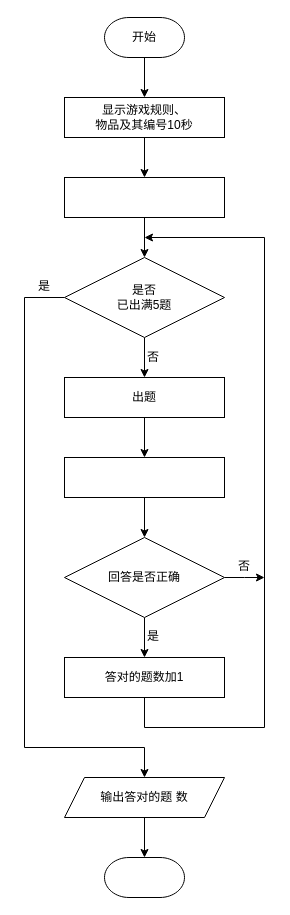
This 290x915 diagram has some shape labels left out. Each missing label, with the box of its shape:
清屏: (64, 176, 224, 218)
答题: (64, 456, 224, 498)
结束: (104, 856, 184, 898)
